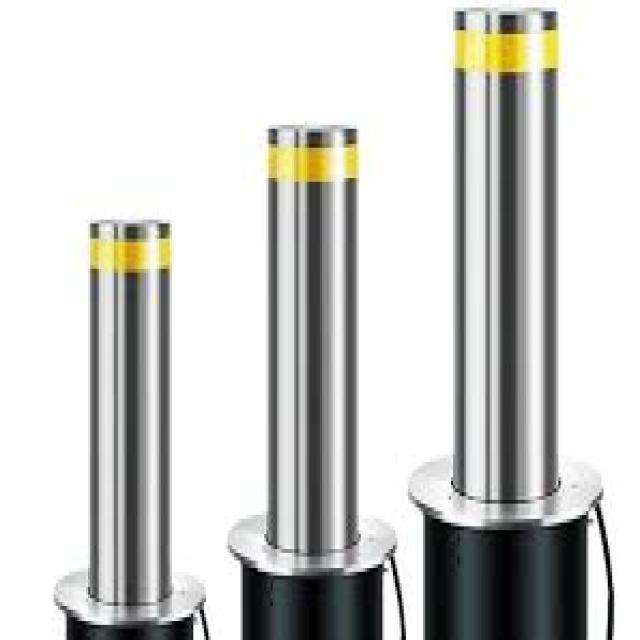bollard: (405, 1, 605, 536), (225, 117, 399, 572), (51, 198, 213, 626)
